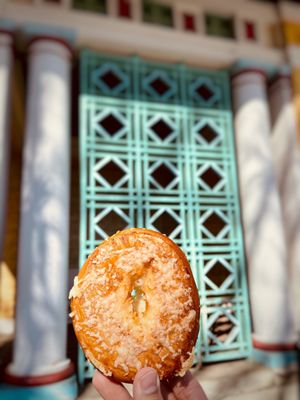salad: (68, 228, 202, 383)
